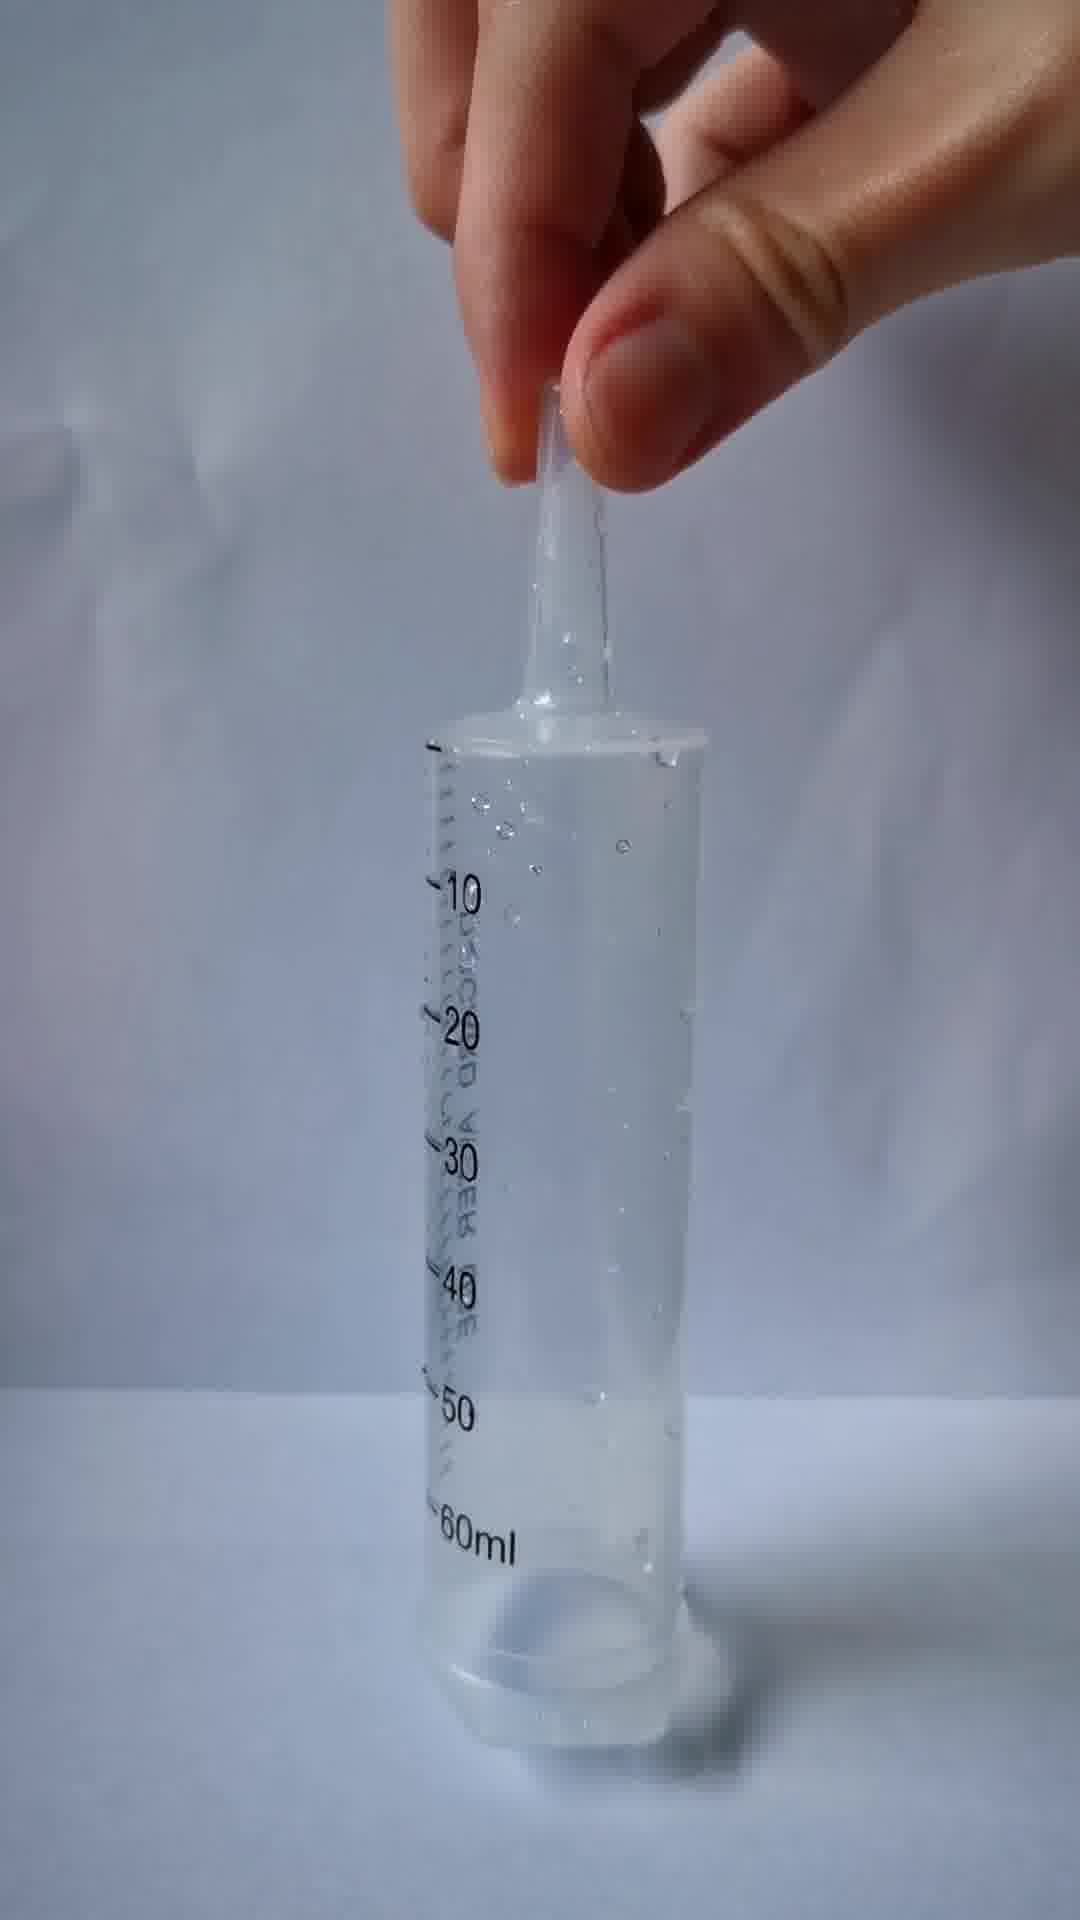syringe: (415, 373, 721, 1754)
